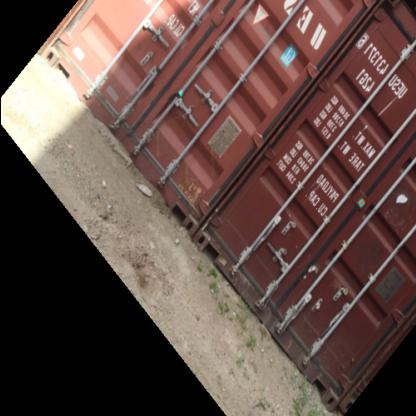Damage: (144, 141, 220, 208)
